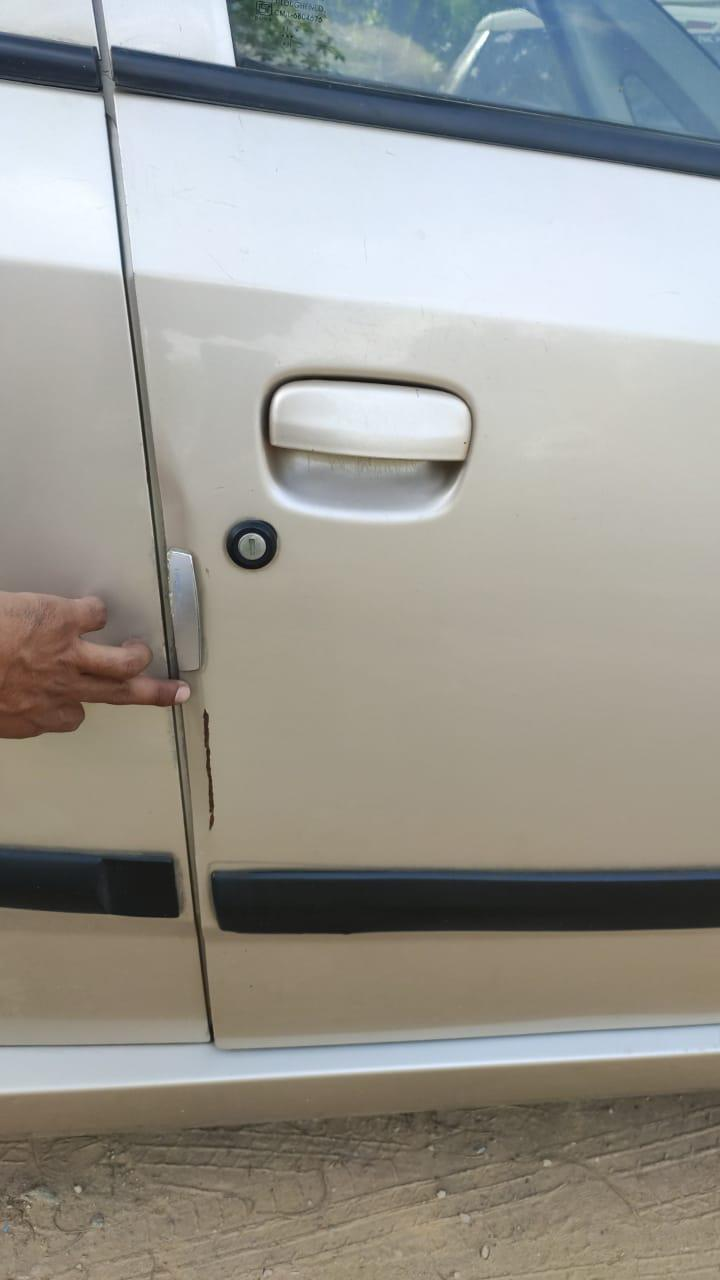doorouter-dent: (151, 111, 719, 1042)
